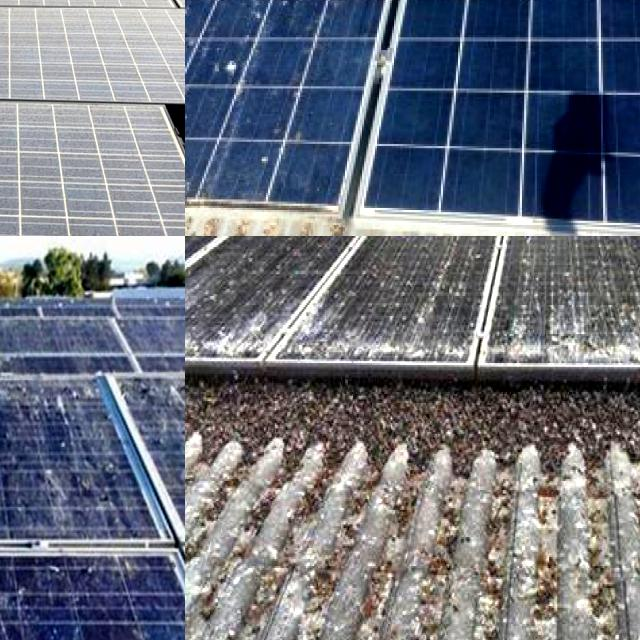bird: (293, 288, 353, 362), (500, 303, 578, 353), (206, 308, 272, 354), (35, 387, 93, 439), (591, 294, 640, 352), (0, 391, 53, 426), (0, 444, 27, 510), (0, 376, 33, 429), (206, 0, 292, 19), (0, 366, 20, 430), (203, 47, 246, 73), (185, 117, 217, 150), (185, 41, 202, 93), (185, 293, 198, 355), (341, 0, 391, 15), (0, 605, 16, 640), (185, 164, 208, 188), (185, 0, 211, 20)
dust: (0, 8, 185, 84), (0, 109, 76, 236), (0, 8, 116, 83), (86, 126, 164, 236), (0, 115, 57, 236), (0, 0, 138, 17), (0, 0, 83, 23)
